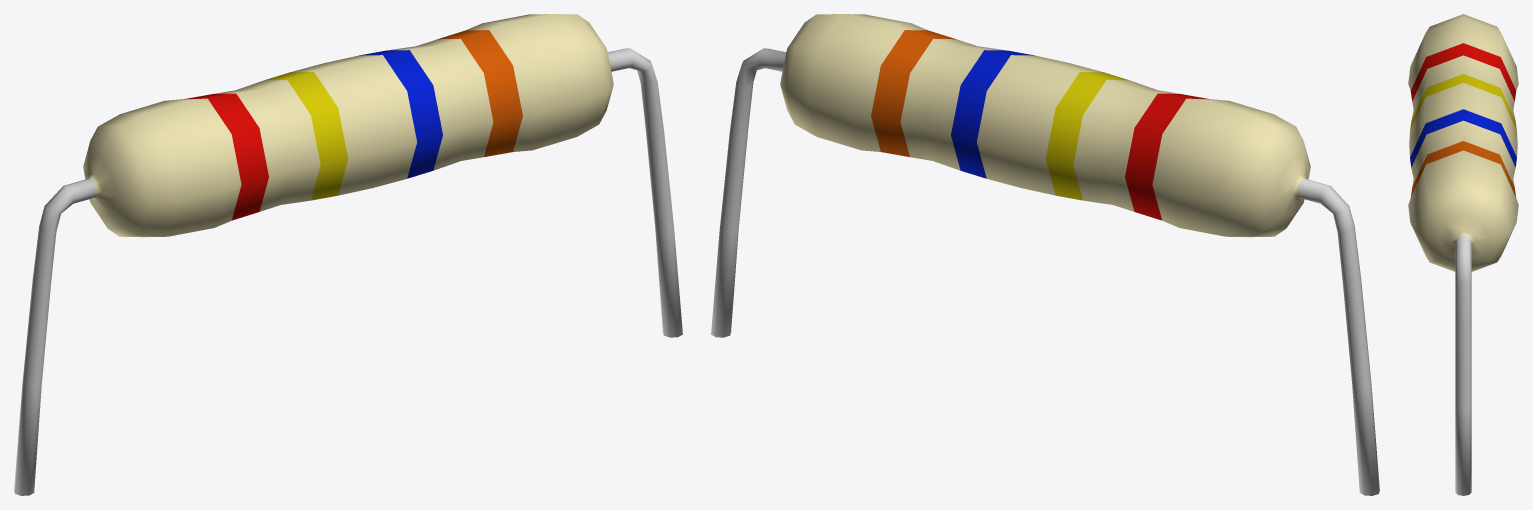
Rendered from VR03_Resistor.fbx.
3 views of the same model, side by side, from view 1: azimuth 30°, elevation 25°; view 2: azimuth 150°, elevation 25°; view 3: azimuth 270°, elevation 25° (orthographic). The views are drawn at different scales.
Visible parts, largest first — view 1: Resistor27; view 2: Resistor27; view 3: Resistor27.
Boxes of the visible parts, bbox=[...] form: Resistor27: bbox=[14, 14, 682, 495]; Resistor27: bbox=[711, 14, 1379, 495]; Resistor27: bbox=[1408, 14, 1518, 495].
Size of the model in its own units: 42.05 by 21.15 by 7.72.
